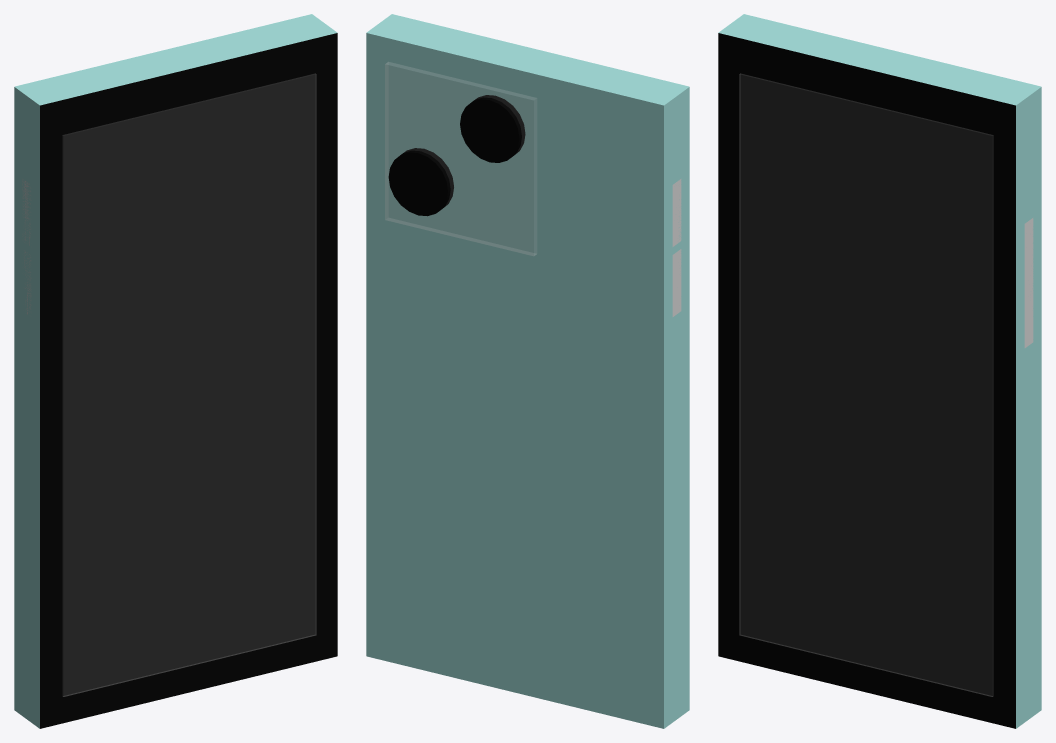
File: Sumaho.fbx
The picture shows the model from 3 angles, left to right: view 1: azimuth 30°, elevation 25°; view 2: azimuth 150°, elevation 25°; view 3: azimuth 330°, elevation 25°; orthographic projection.
Parts seen in each view (by area): view 1: pCube1, pCube2; view 2: pCube1, pCube6, pCylinder1, pCylinder2, pCube4, pCube5; view 3: pCube1, pCube2, pCube3.
Part boxes in pixels (left/top/right/bottom): pCube1: left=14, top=14, right=337, bottom=728; pCube2: left=63, top=74, right=316, bottom=696; pCube1: left=366, top=14, right=689, bottom=728; pCube6: left=385, top=62, right=536, bottom=255; pCylinder1: left=460, top=95, right=525, bottom=162; pCylinder2: left=388, top=148, right=453, bottom=216; pCube4: left=672, top=249, right=681, bottom=316; pCube5: left=672, top=179, right=681, bottom=246; pCube1: left=718, top=14, right=1041, bottom=728; pCube2: left=739, top=74, right=992, bottom=696; pCube3: left=1024, top=218, right=1033, bottom=347.
Bounding box in the file's own units: 2 × 4 × 0.3838.
